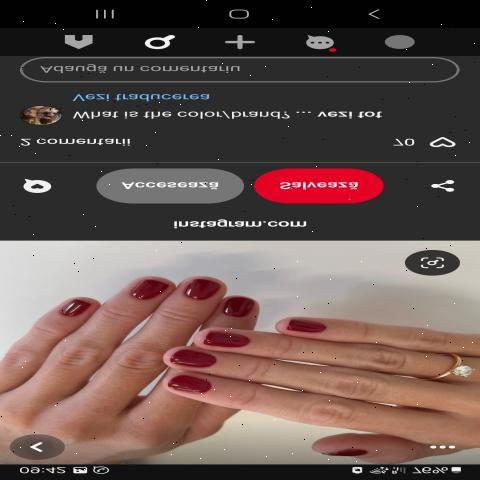Hands: (158, 280, 480, 476), (0, 269, 267, 466)
